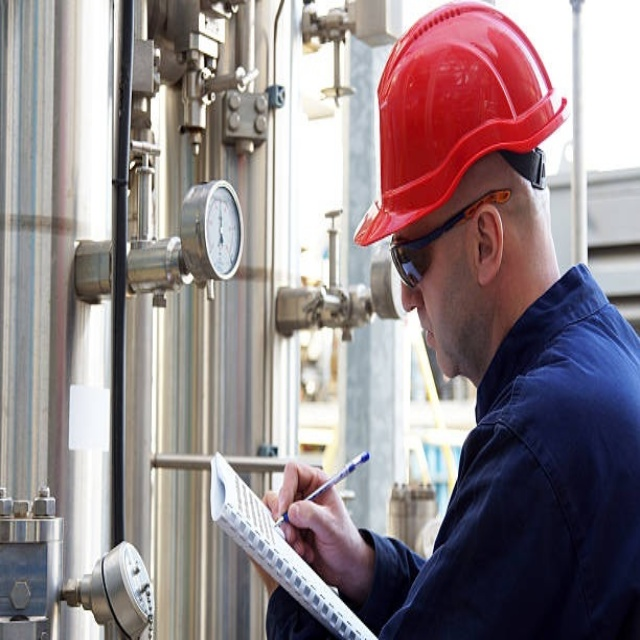Gafas: (388, 188, 517, 291)
Sin_guantes: (263, 462, 362, 594)
Sin_mascara: (415, 306, 462, 376)
